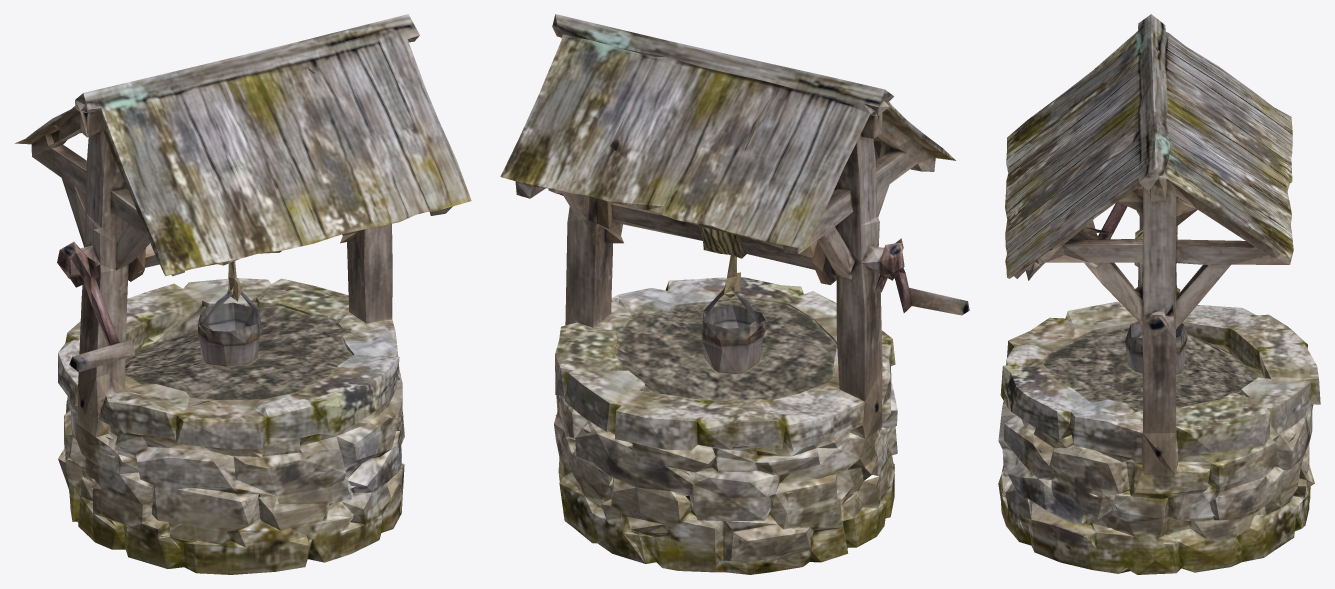
The model's file is well_b.obj.
3 views of the same model, side by side, from view 1: azimuth 30°, elevation 25°; view 2: azimuth 150°, elevation 25°; view 3: azimuth 270°, elevation 25° (orthographic). The views are drawn at different scales.
Visible parts, largest first — view 1: well_b; view 2: well_b; view 3: well_b.
Part boxes in pixels (bbox=[...]): well_b: bbox=[15, 14, 471, 574]; well_b: bbox=[500, 14, 969, 574]; well_b: bbox=[998, 14, 1320, 574].
Size of the model in its own units: 2.61 by 3 by 2.06.
1 material, 1 textured.
